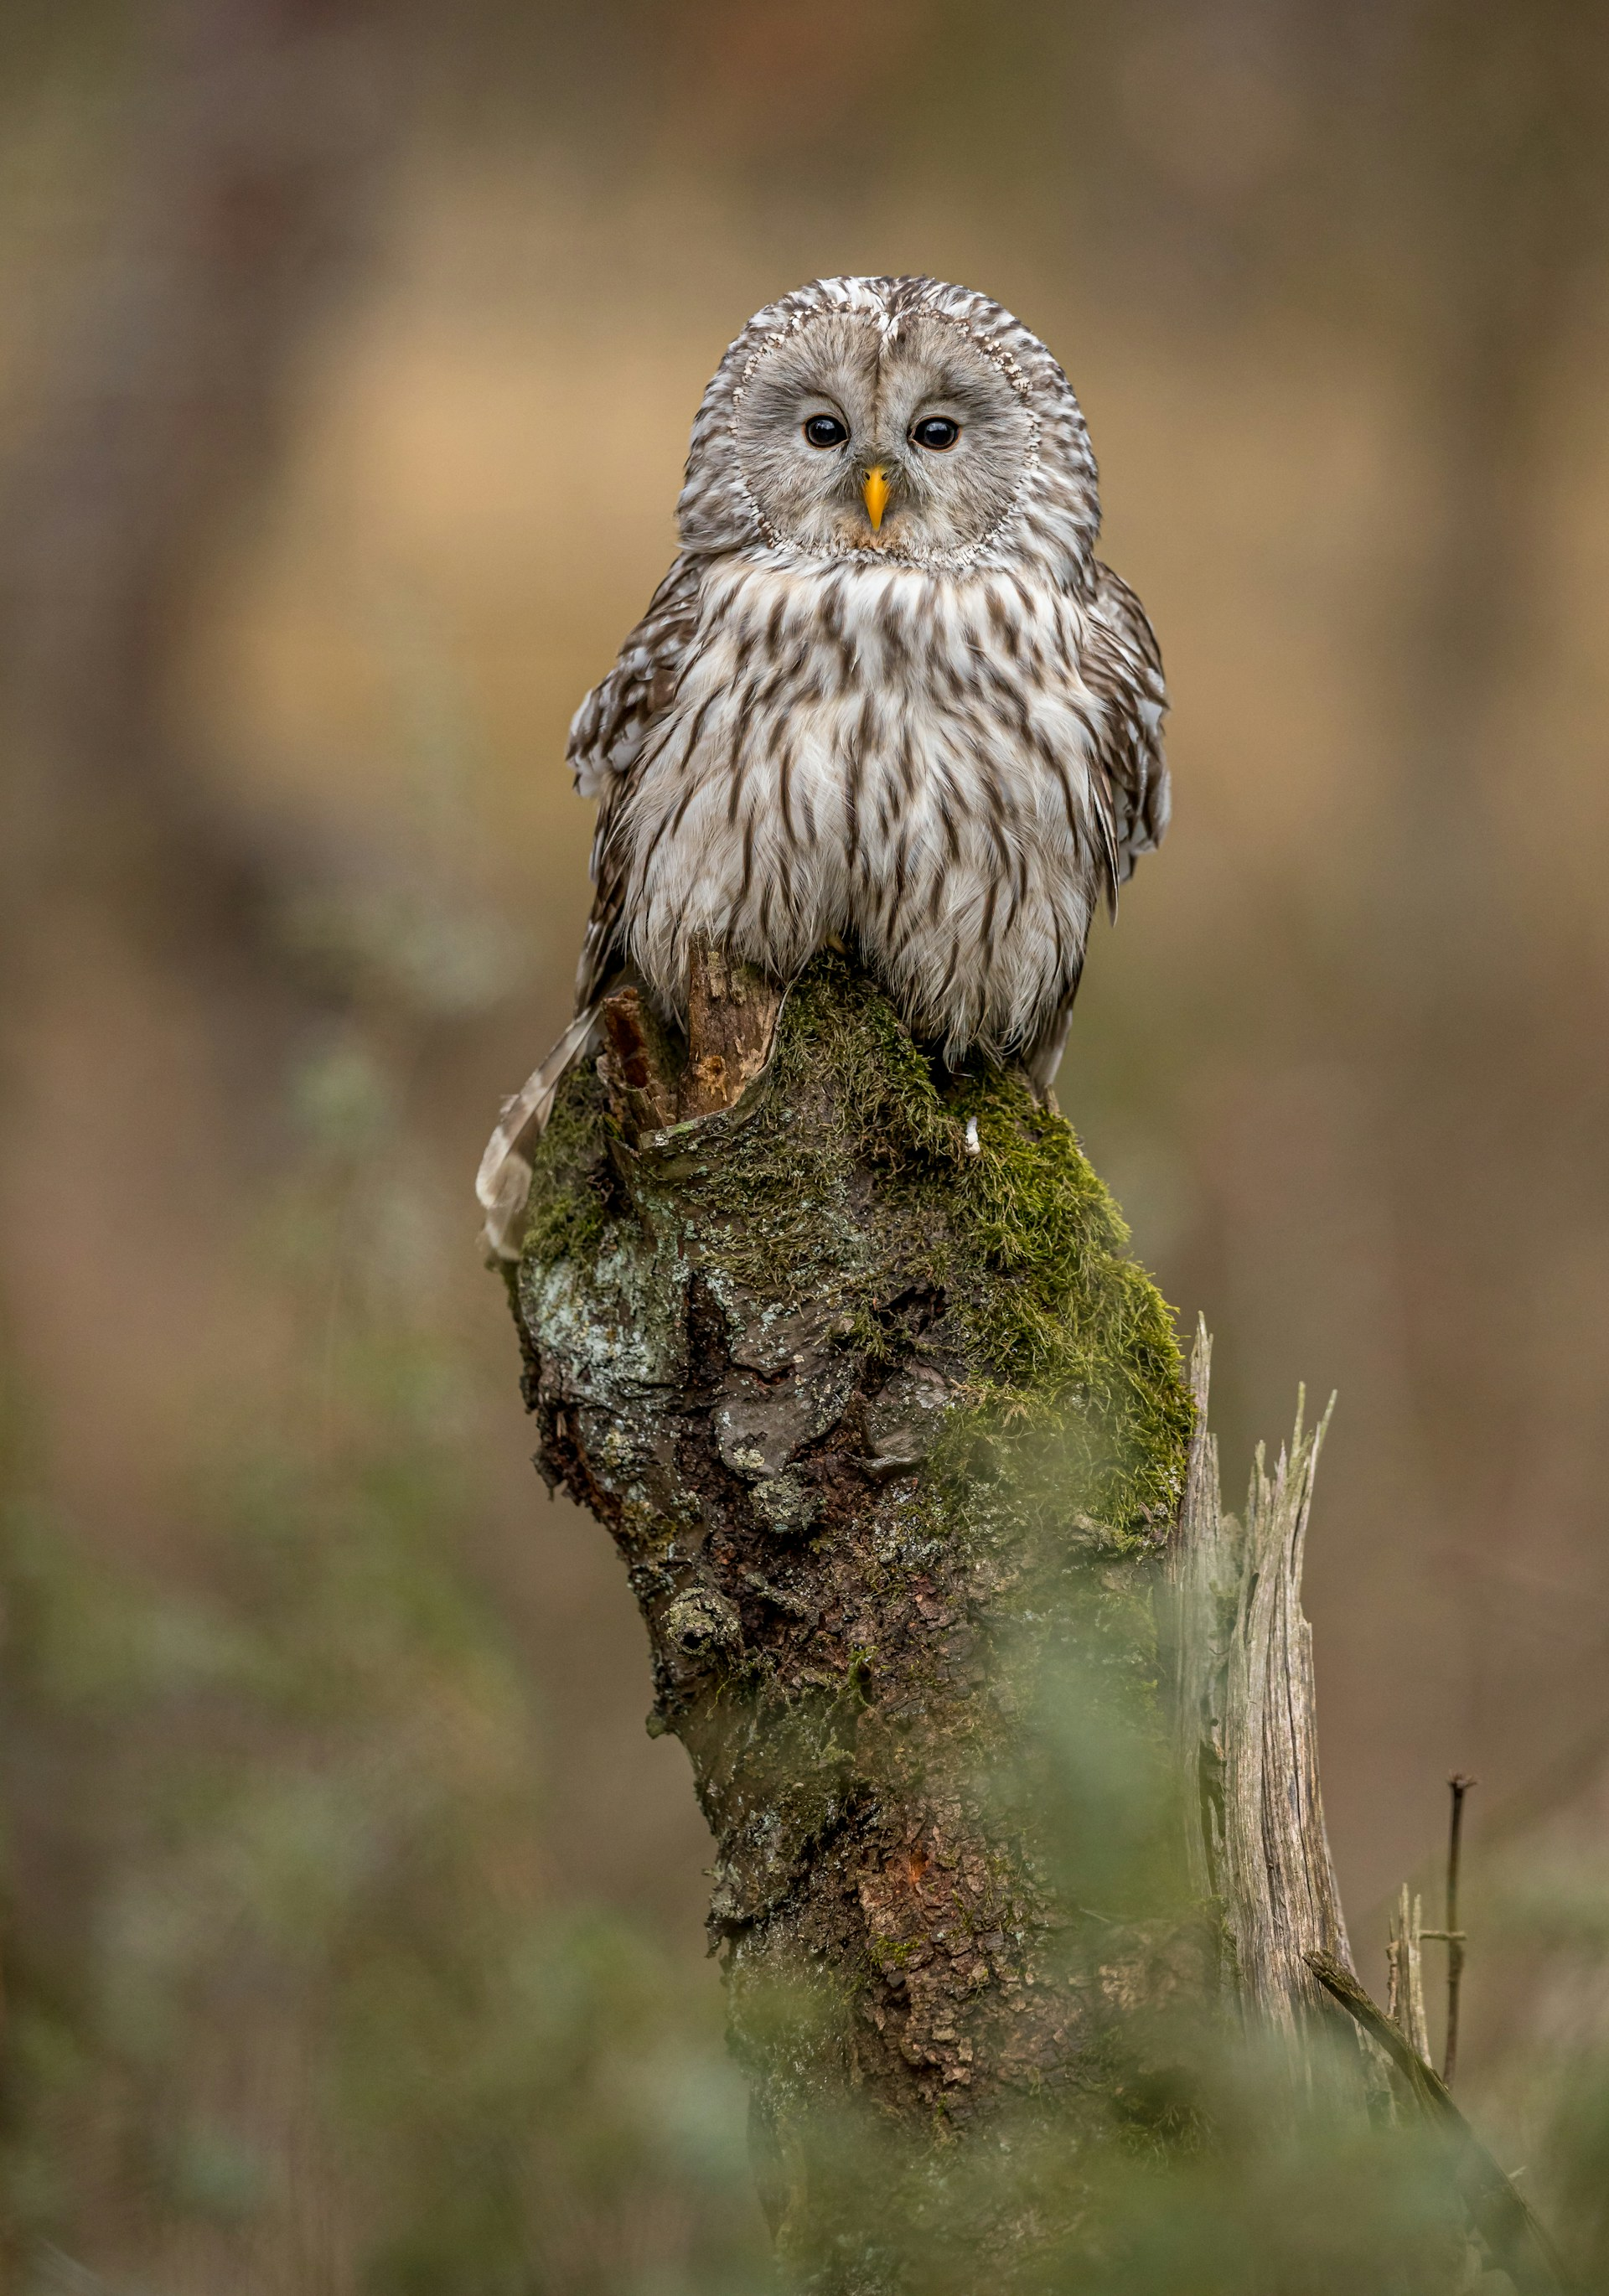owl: (536, 258, 1227, 1185)
